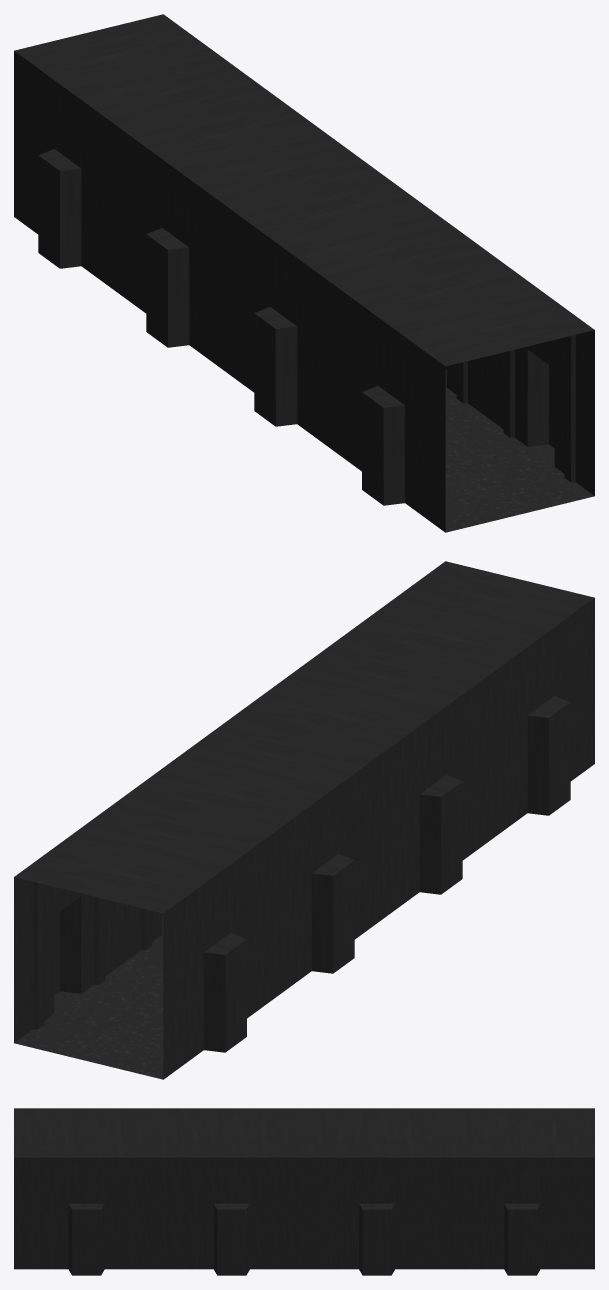
The model's file is SW_ENV_RailTunnel_B_02_Single_20m.fbx.
3 views of the same model, one above another, from view 1: azimuth 30°, elevation 25°; view 2: azimuth 150°, elevation 25°; view 3: azimuth 270°, elevation 25° (orthographic). The views are drawn at different scales.
Visible parts, largest first — view 1: SW_ENV_RailTunnel_B_02_Single_20m; view 2: SW_ENV_RailTunnel_B_02_Single_20m; view 3: SW_ENV_RailTunnel_B_02_Single_20m.
Boxes of the visible parts, x1,y1,x2,y2 form: SW_ENV_RailTunnel_B_02_Single_20m: (14,14,594,532); SW_ENV_RailTunnel_B_02_Single_20m: (14,561,594,1079); SW_ENV_RailTunnel_B_02_Single_20m: (14,1108,594,1275).
Bounding box in the file's own units: 500 × 425 × 2000.
